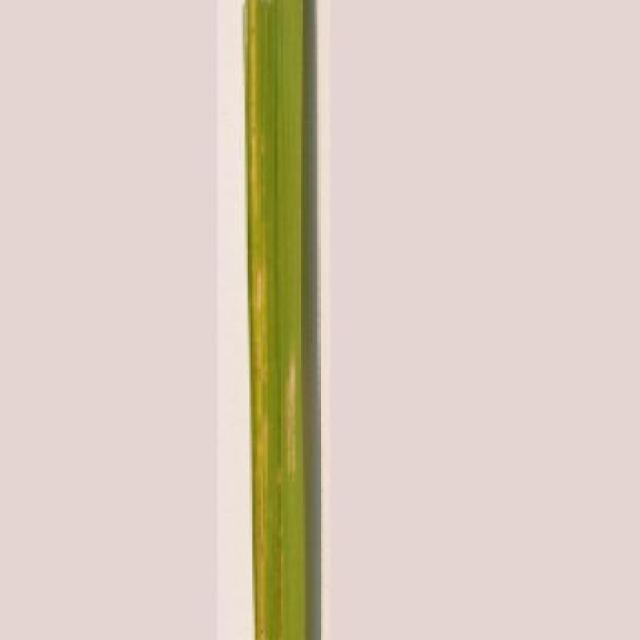Brown_Spot: (239, 0, 316, 640)
